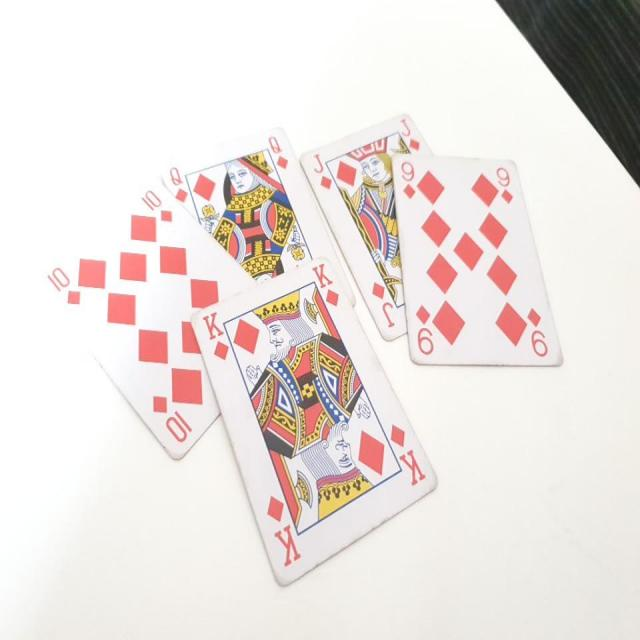10 Diamonds: (38, 177, 264, 462)
9 Diamonds: (390, 150, 564, 369)
J Diamonds: (299, 113, 430, 342)
K Diamonds: (190, 257, 441, 589)
Q Diamonds: (159, 125, 358, 311)
